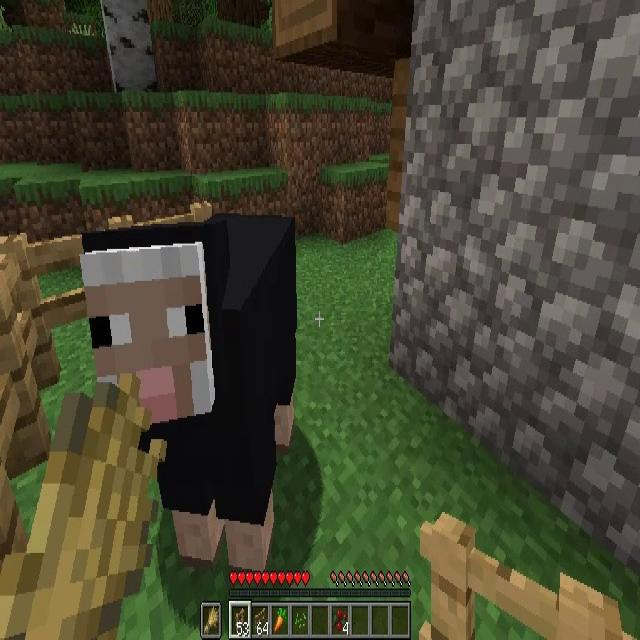sheep: (86, 227, 301, 578)
